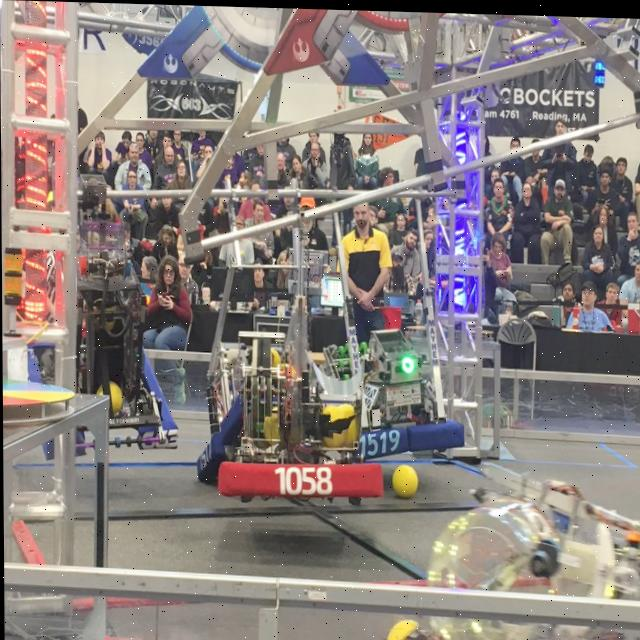robot: (212, 211, 383, 500), (26, 169, 179, 464), (194, 177, 338, 473), (325, 181, 473, 459)
